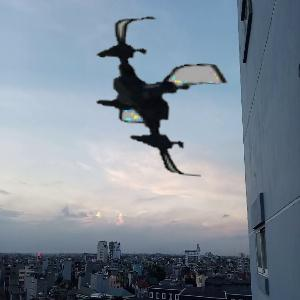drone: (77, 17, 235, 175)
